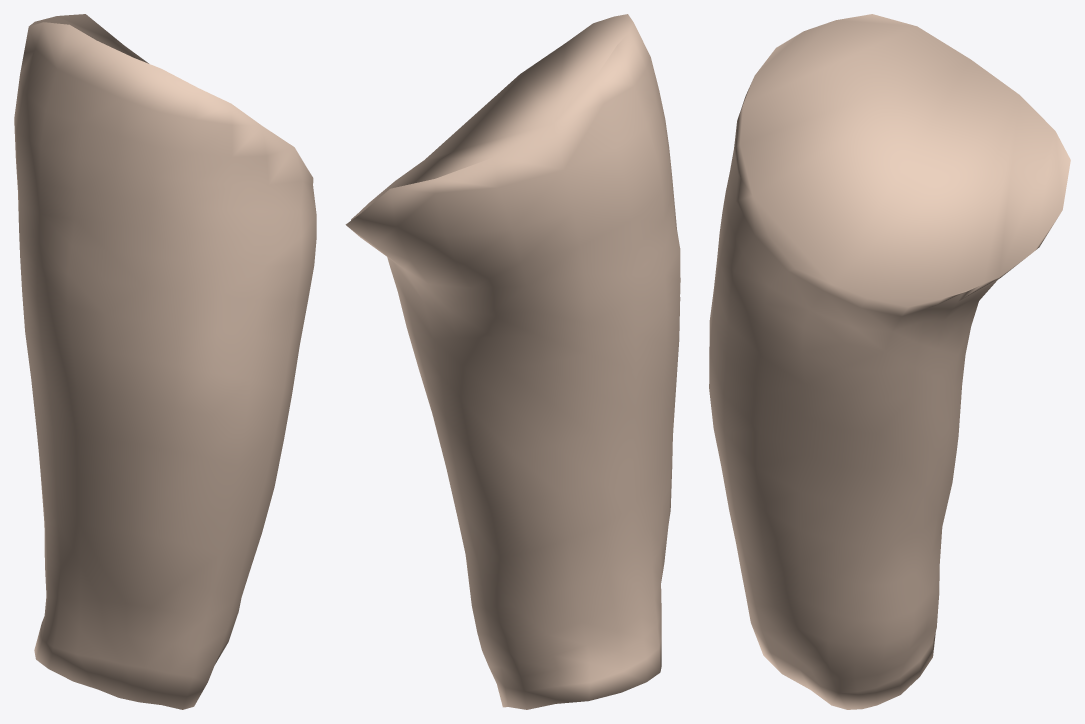
File: left_upper_leg.dae
3 renders of one model, left to right at view 1: azimuth 30°, elevation 25°; view 2: azimuth 150°, elevation 25°; view 3: azimuth 270°, elevation 25°, orthographic. The views are drawn at different scales.
Visible parts, largest first — view 1: left-upper-leg; view 2: left-upper-leg; view 3: left-upper-leg.
Part boxes in pixels (left/top/right/bottom): left-upper-leg: left=14, top=14, right=316, bottom=709; left-upper-leg: left=345, top=14, right=680, bottom=709; left-upper-leg: left=709, top=14, right=1070, bottom=709.
Size of the model in its own units: 0.1806 by 0.2226 by 0.4392.
